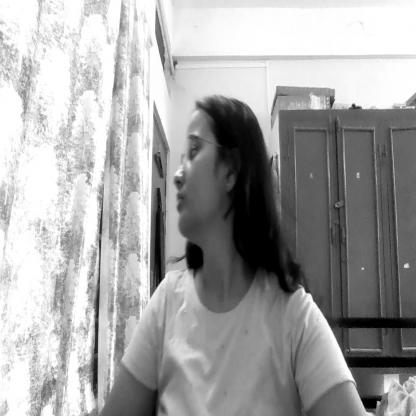Distracted: (165, 103, 241, 253)
